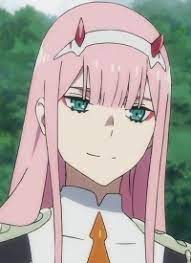zeroTwo: (27, 2, 181, 185)
